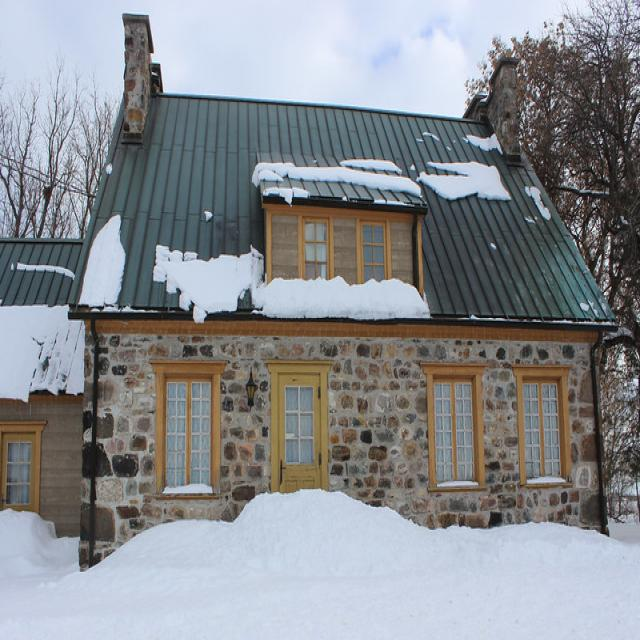Normal_building: (68, 19, 616, 573)
